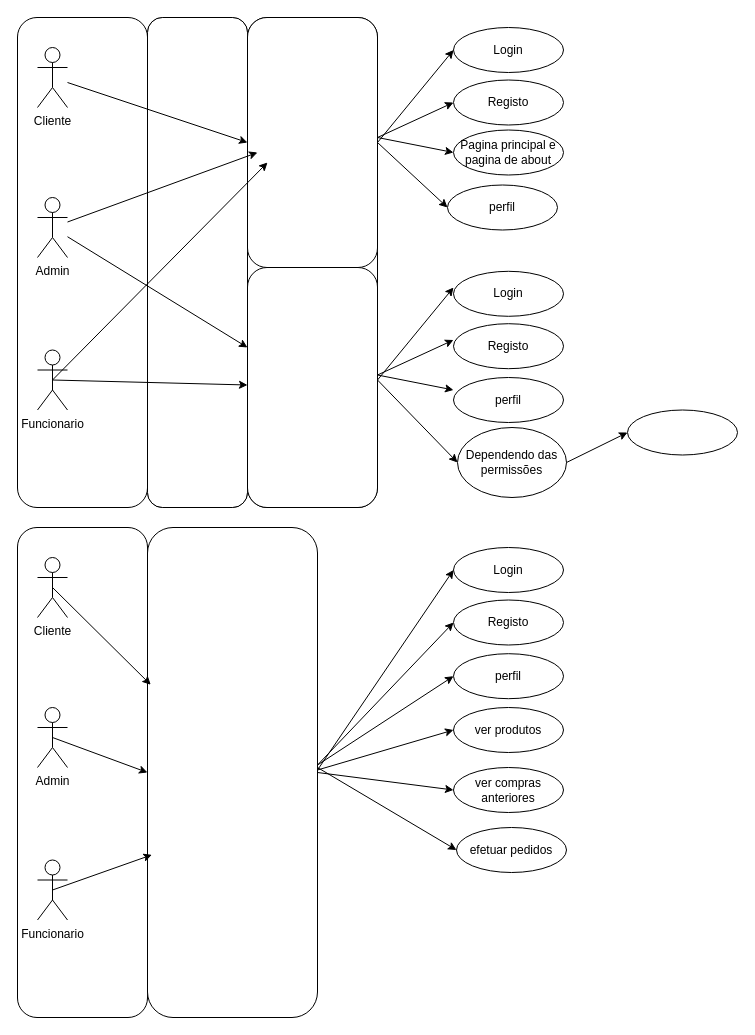
The diagram is 755 pixels wide and 1035 high, and some of its shapes have lost their labels. The shapes that lost their labels are listed below. From the top down, each one's centre as x and y in pixels, then its label:
[312,142]: FrontOffice
[197,262]: Web
[312,387]: BackOffice
[682,432]: Operações Crud
[232,772]: Android
